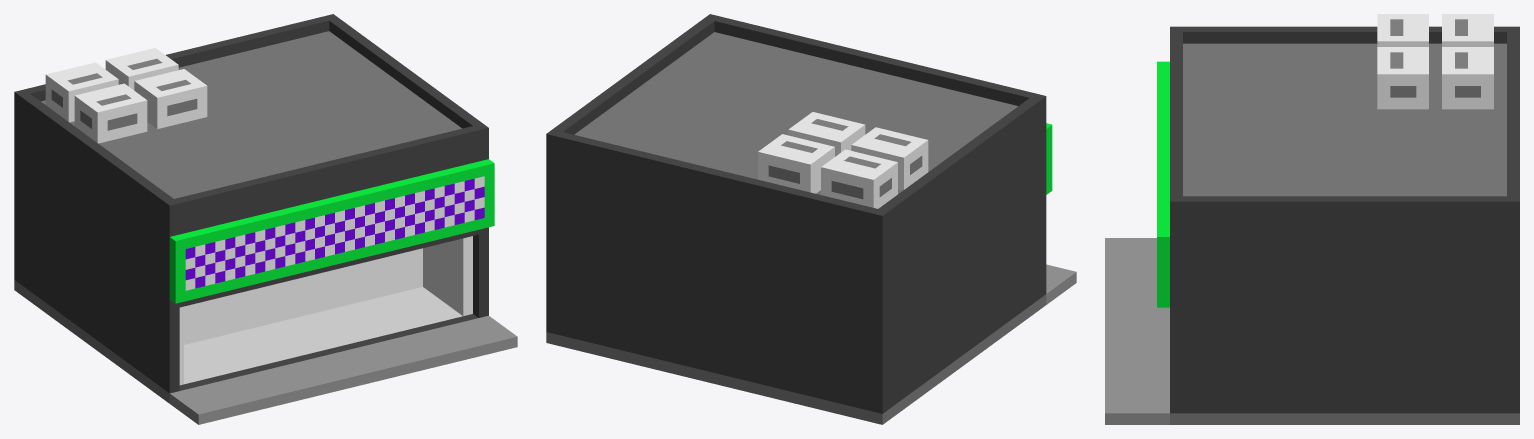
File: Convenience store.obj
3 views of the same model, side by side, from view 1: azimuth 30°, elevation 25°; view 2: azimuth 150°, elevation 25°; view 3: azimuth 270°, elevation 25° (orthographic). The views are drawn at different scales.
Size of the model in its own units: 3.2 by 2.1 by 3.2.
1 material, 1 textured.
